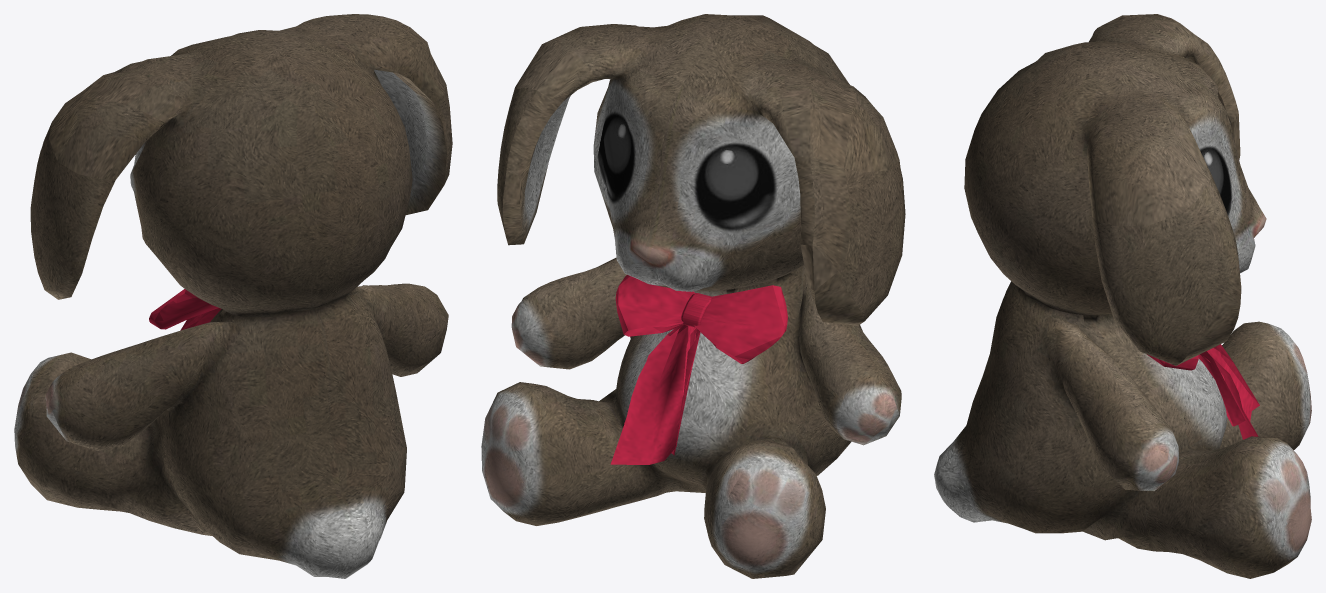
The picture shows the model from 3 angles, left to right: view 1: azimuth 30°, elevation 25°; view 2: azimuth 150°, elevation 25°; view 3: azimuth 270°, elevation 25°; orthographic projection. The views are drawn at different scales.
Parts seen in each view (by area): view 1: smMAT0110034; view 2: smMAT0110034; view 3: smMAT0110034.
Part boxes in pixels (<box>): smMAT0110034: <box>14,14,452,578</box>; smMAT0110034: <box>481,14,905,578</box>; smMAT0110034: <box>934,14,1311,578</box>.
Bounding box in the file's own units: 125 × 146 × 108.
Materials: 1 (1 with a texture image).
